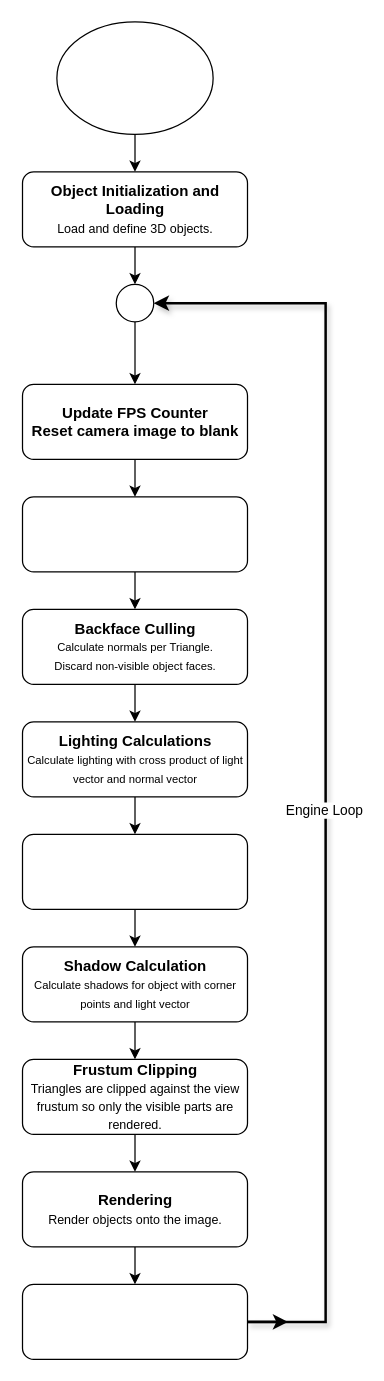
Image size: 384x1381. Some labels were removed from this diagram. The centre of each missing label's shape, as x and y in pixels:
"Camera and Transformations Generate homogenous transformation matrices" goes at point (134, 534).
"Depth Sorting Sort objects by depth for correct rendering." goes at point (134, 871).
"Display Show FPS and image on screen" goes at point (134, 1321).
"Start Load engine modules and configurations." goes at point (134, 77).
